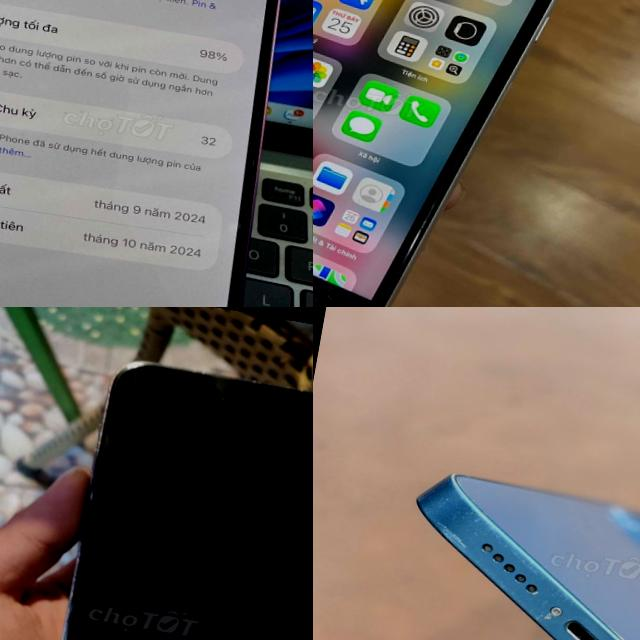gen_12_13: (357, 448, 640, 640)
gen_14: (18, 328, 313, 640)
gen_16: (0, 0, 313, 307)
gen_6: (313, 0, 554, 307)
